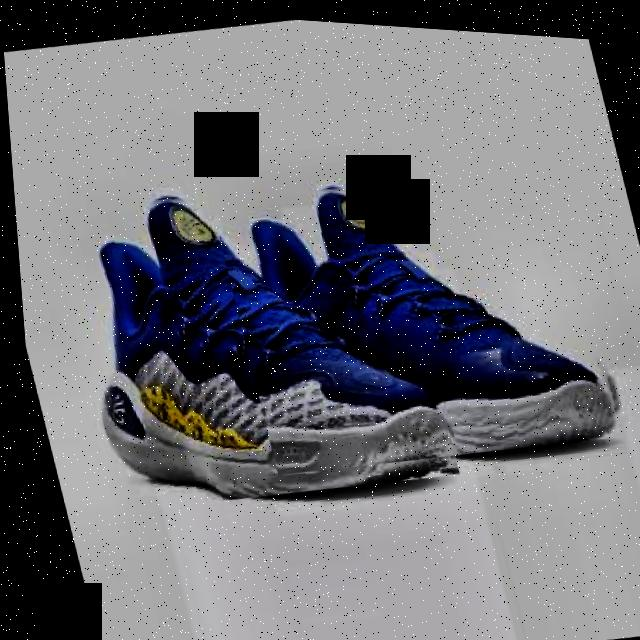shoe: (43, 146, 458, 527), (203, 132, 627, 490)
